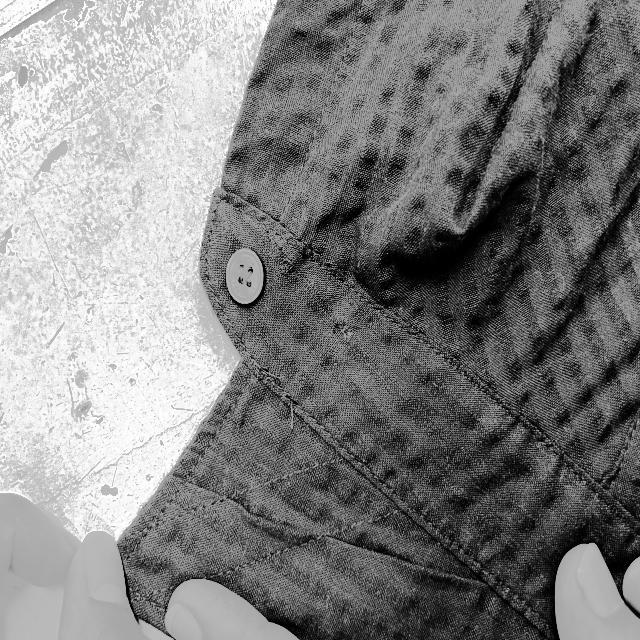Hole: (328, 315, 352, 343)
